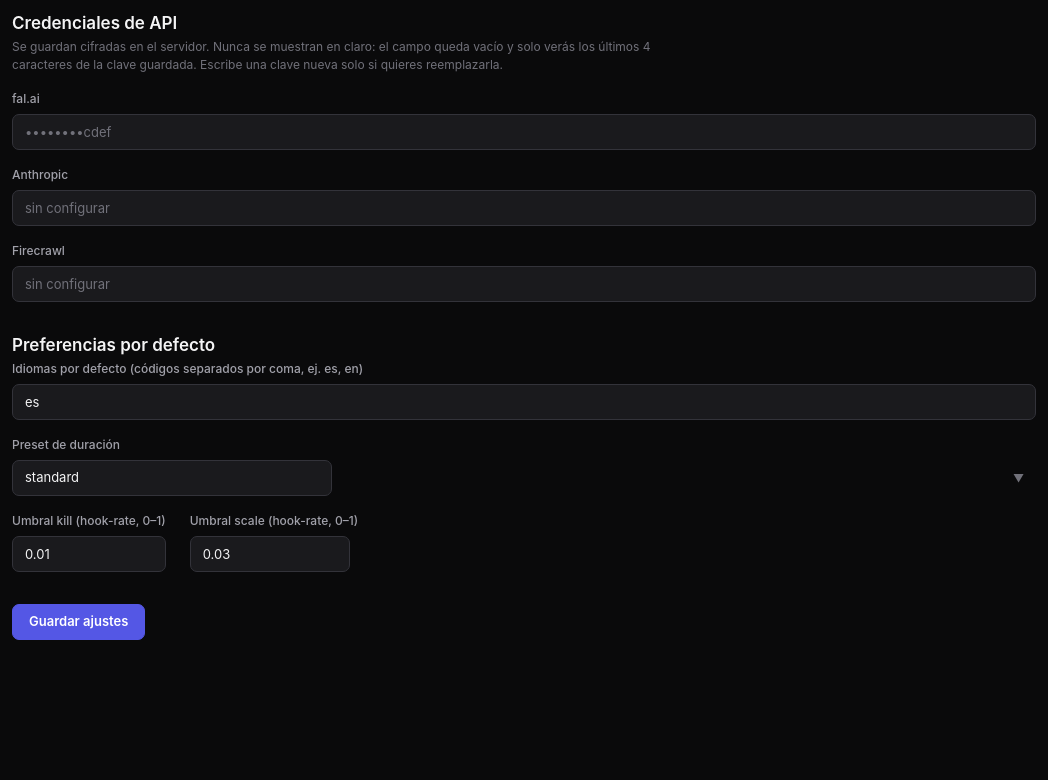
Test: SettingsForm (credenciales write-only, T0.14) › un validation_error de CAMPO NO muestra el banner de "Ajustes guardados"
The image size is (1048, 780).
Type "x-key" into the password field labelled "fal.ai" at {"x": 524, "y": 132}, box [12,114,1036,150]
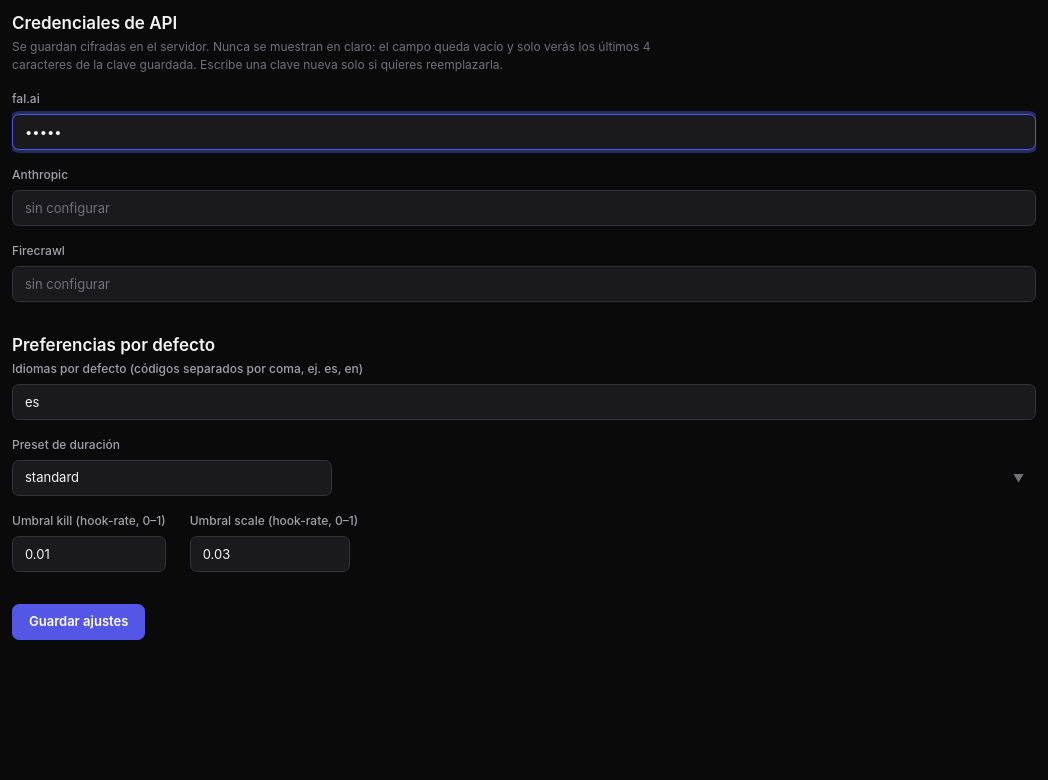
Click the button "Guardar ajustes" at {"x": 79, "y": 622}, box [12,604,145,640]
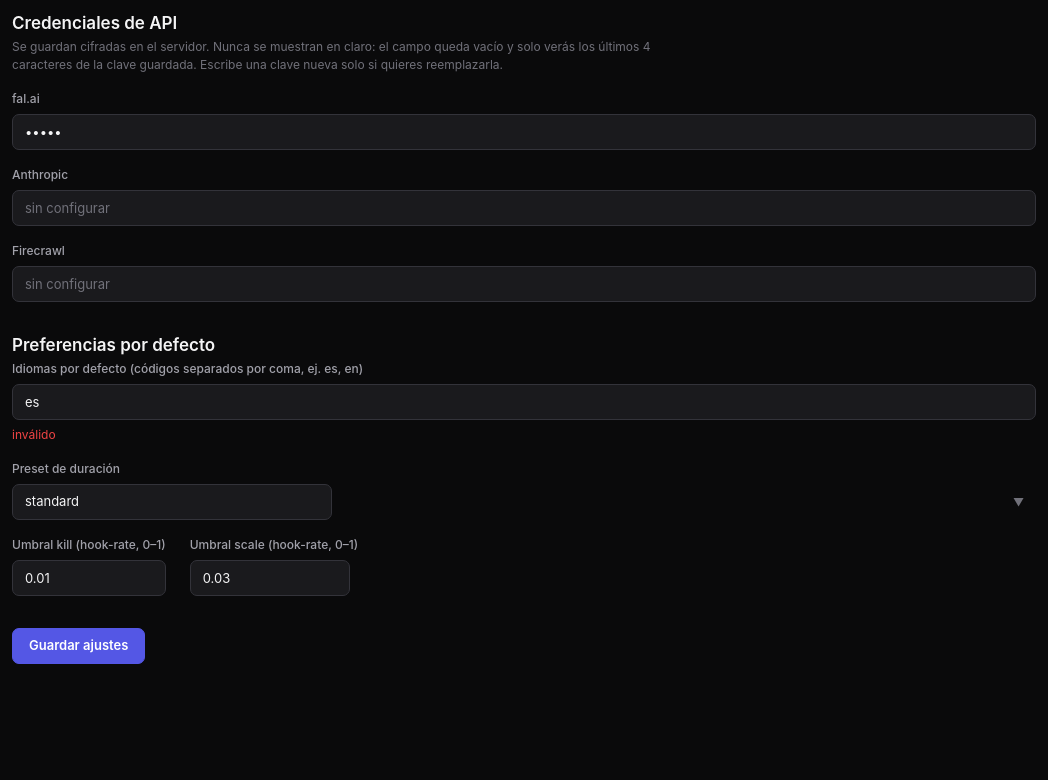
Result: the text "inválido" is shown at [12,427,56,442]
